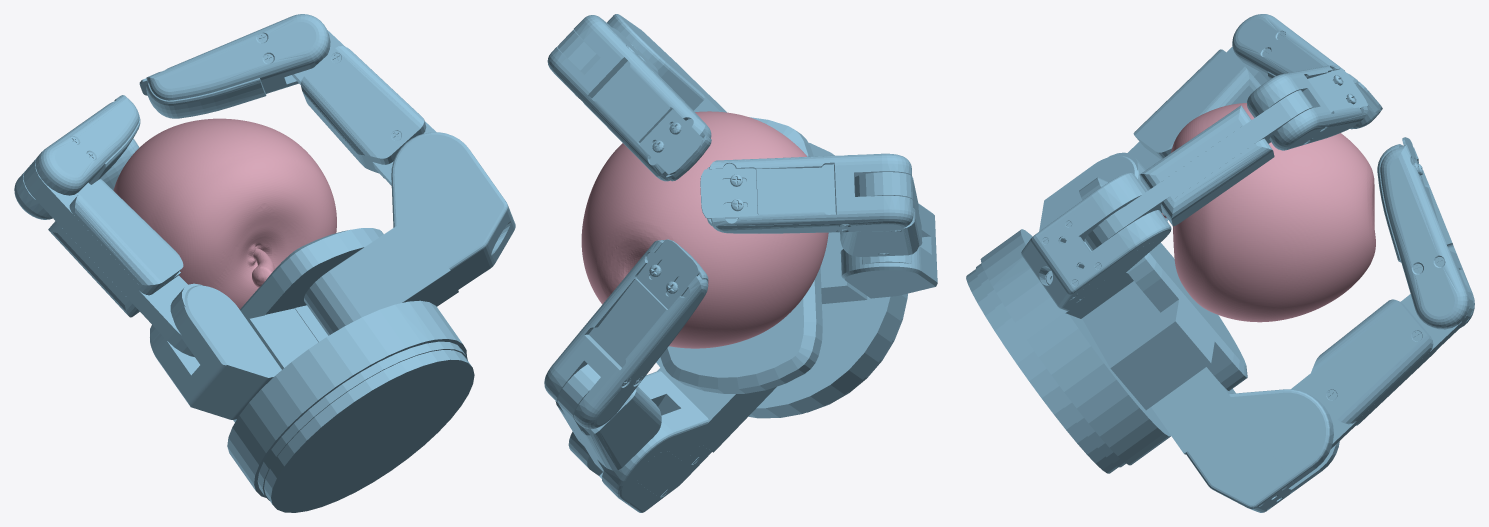
The picture shows the model from 3 angles, left to right: view 1: azimuth 30°, elevation 25°; view 2: azimuth 150°, elevation 25°; view 3: azimuth 270°, elevation 25°; orthographic projection. The views are drawn at different scales.
Visible parts, largest first — view 1: world; view 2: world; view 3: world.
Part boxes in pixels (x1,y1,x2,y2): world: [14, 14, 515, 512]; world: [544, 14, 937, 512]; world: [966, 14, 1474, 512].
Bounding box in the file's own units: 0.1601 × 0.1739 × 0.177.
